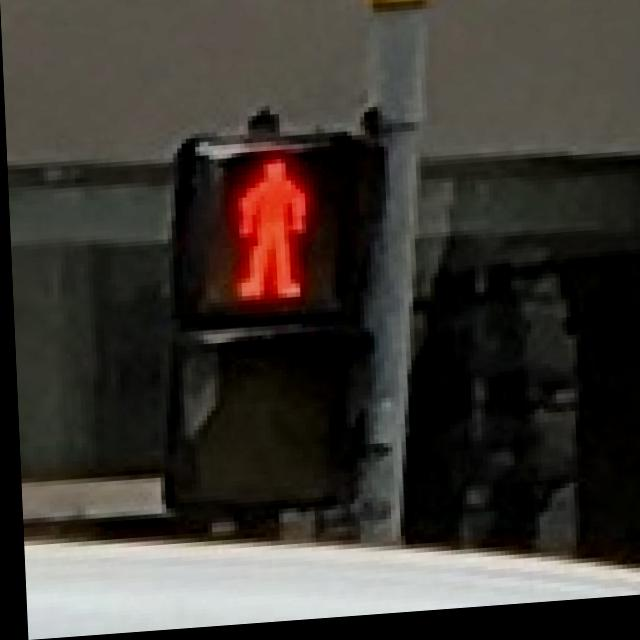red_light: (194, 141, 360, 311)
